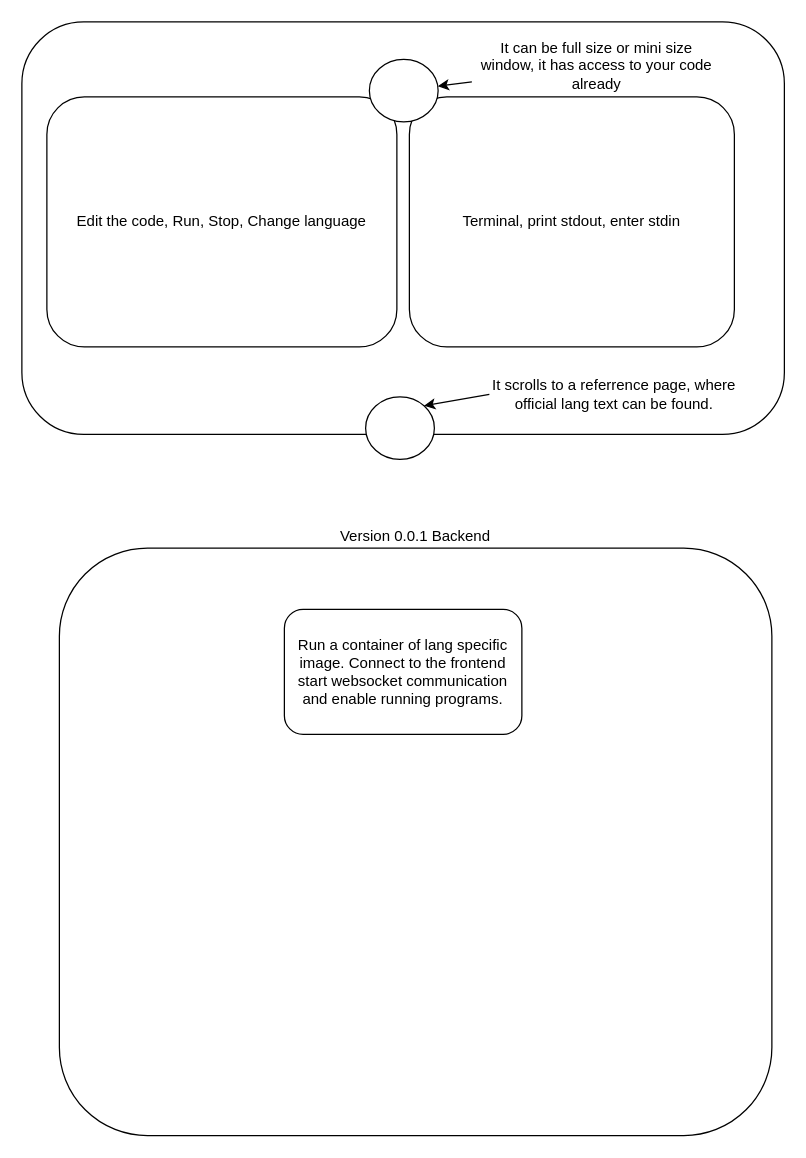
The diagram is 806 pixels wide and 1158 high, and some of its shapes have lost their labels. Here are the shapes that lost their labels. From the top down, the centre of each, then its label:
point (403, 90): AI
point (399, 427): Ref
